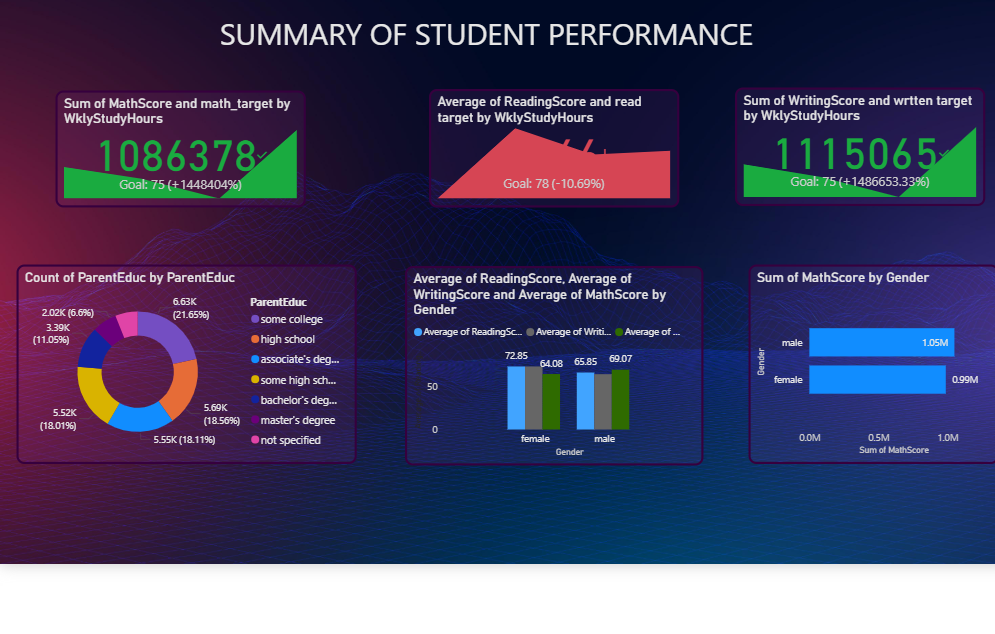

The dashboard page shown, as its layout file describes it:
{"tool":"powerbi","page":{"name":"Page 1","canvas":[1280,720],"ordinal":0},"visuals":[{"type":"kpi","fields":{"Indicator":["Sum(Sheet1.MathScore)"],"TrendLine":["Sheet1.WklyStudyHours"],"Goal":["Sheet1.math_target"]},"box":[69.9,122.8,315.6,147.4],"z":0},{"type":"kpi","fields":{"Indicator":["Avg(Sheet1.ReadingScore)"],"TrendLine":["Sheet1.WklyStudyHours"],"Goal":["Sheet1.read target"]},"box":[540.5,120.9,315.6,149.3],"z":1},{"type":"kpi","fields":{"Indicator":["Sum(Sheet1.WritingScore)"],"TrendLine":["Sheet1.WklyStudyHours"],"Goal":["Sheet1.wrtten target"]},"box":[926,119.1,315.6,149.3],"z":2},{"type":"barChart","fields":{"Category":["Sheet1.Gender"],"Y":["Sum(Sheet1.MathScore)"]},"box":[943,342,315.6,251.3],"z":3},{"type":"clusteredColumnChart","fields":{"Category":["Sheet1.Gender"],"Y":["Avg(Sheet1.ReadingScore)","Avg(Sheet1.WritingScore)","Avg(Sheet1.MathScore)"]},"box":[510.2,343.9,376.1,251.3],"z":4},{"type":"donutChart","fields":{"Category":["Sheet1.ParentEduc"],"Y":["CountNonNull(Sheet1.ParentEduc)"]},"box":[20.8,342,429,251.3],"z":5},{"type":"textbox","box":[145.5,20.8,939.2,69.9],"z":6}]}

Visuals, with their boxes on the page's 1280x720 design canvas (x1, y1, x2, y2). These are canvas units, not pixel positions in the 995x634 screenshot, which may show the page scaled, cropped or inside an application window:
kpi - Sum(Sheet1.MathScore) x Sheet1.WklyStudyHours: locate(70, 123, 386, 270)
kpi - Avg(Sheet1.ReadingScore) x Sheet1.WklyStudyHours: locate(540, 121, 856, 270)
kpi - Sum(Sheet1.WritingScore) x Sheet1.WklyStudyHours: locate(926, 119, 1242, 268)
barChart - Sheet1.Gender x Sum(Sheet1.MathScore): locate(943, 342, 1259, 593)
clusteredColumnChart - Sheet1.Gender x Avg(Sheet1.ReadingScore): locate(510, 344, 886, 595)
donutChart - Sheet1.ParentEduc x CountNonNull(Sheet1.ParentEduc): locate(21, 342, 450, 593)
textbox: locate(146, 21, 1085, 91)
